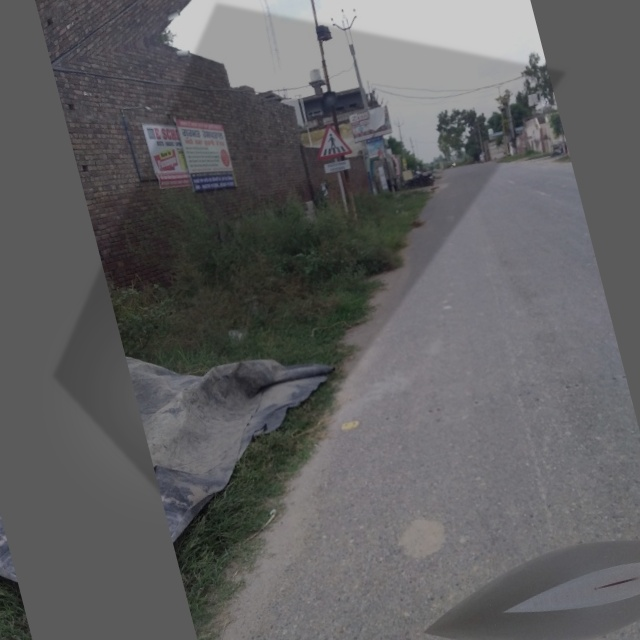Pedestrian_Crossing: (311, 122, 352, 167)
